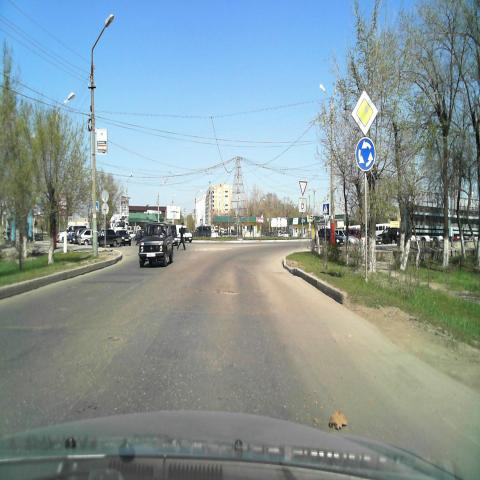4_3: (355, 138, 376, 172)
8_13_1: (299, 198, 306, 212)
